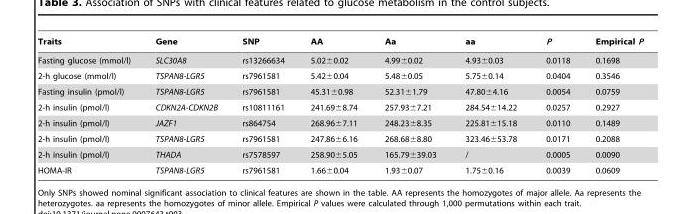table: (37, 36, 644, 174)
table column: (37, 36, 142, 174), (142, 36, 229, 174), (370, 36, 450, 174), (450, 36, 530, 174), (296, 36, 370, 174), (229, 36, 296, 174), (582, 36, 644, 174), (530, 36, 582, 174)
table column header: (37, 36, 644, 50)
table row: (37, 50, 644, 67), (37, 67, 644, 83), (37, 83, 644, 99), (37, 114, 644, 130), (37, 130, 644, 146), (37, 146, 644, 162), (37, 99, 644, 114), (37, 36, 644, 50), (37, 162, 644, 174)
